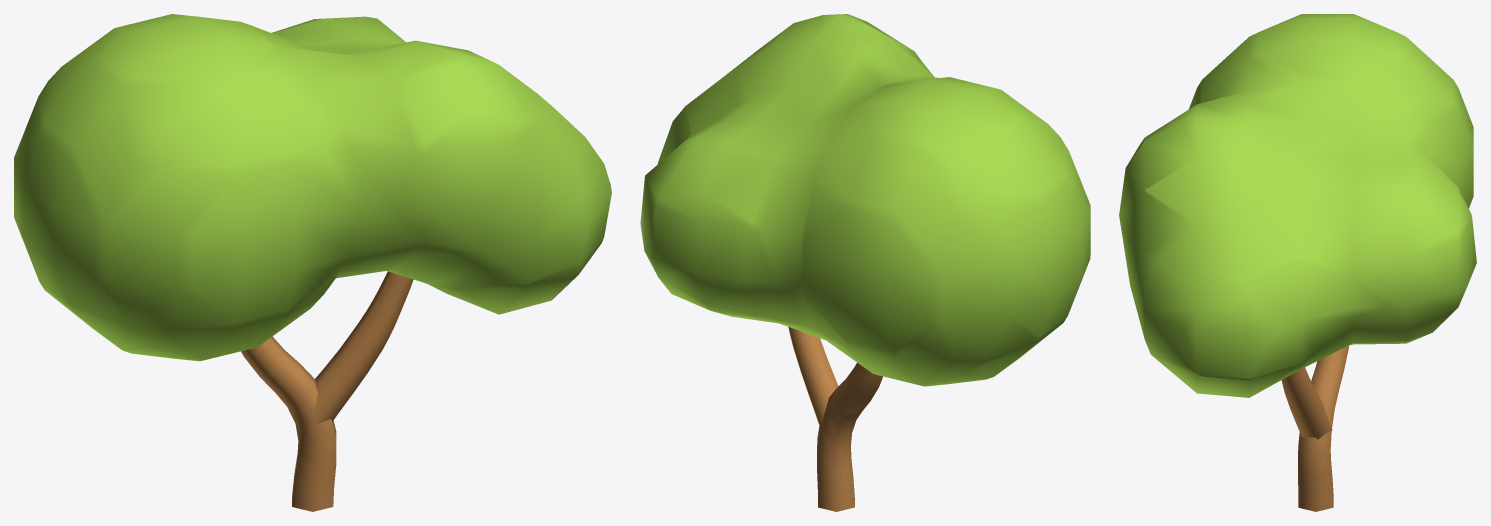
The model's file is tree.1.fbx.
3 views of the same model, side by side, from view 1: azimuth 30°, elevation 25°; view 2: azimuth 150°, elevation 25°; view 3: azimuth 270°, elevation 25° (orthographic). The views are drawn at different scales.
Visible parts, largest first — view 1: Canopy.1; view 2: Canopy.1; view 3: Canopy.1.
Boxes of the visible parts, <box> form: Canopy.1: <box>14,14,611,511</box>; Canopy.1: <box>640,14,1090,511</box>; Canopy.1: <box>1119,14,1476,511</box>.
Size of the model in its own units: 380 by 357 by 274.
